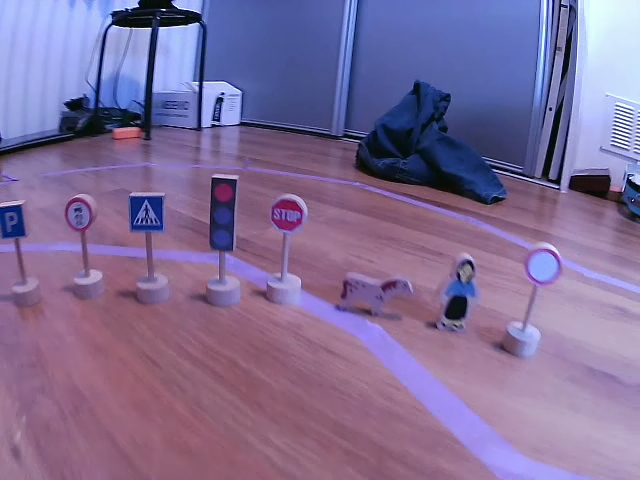fietspad: (66, 199, 92, 231)
mens: (438, 253, 479, 330)
paard: (341, 274, 413, 316)
parkeerbord: (1, 201, 28, 240)
roodlicht: (208, 176, 239, 250)
stopbord: (270, 197, 305, 231)
wegdicht: (526, 247, 564, 283)
zebrapad: (130, 194, 164, 232)
